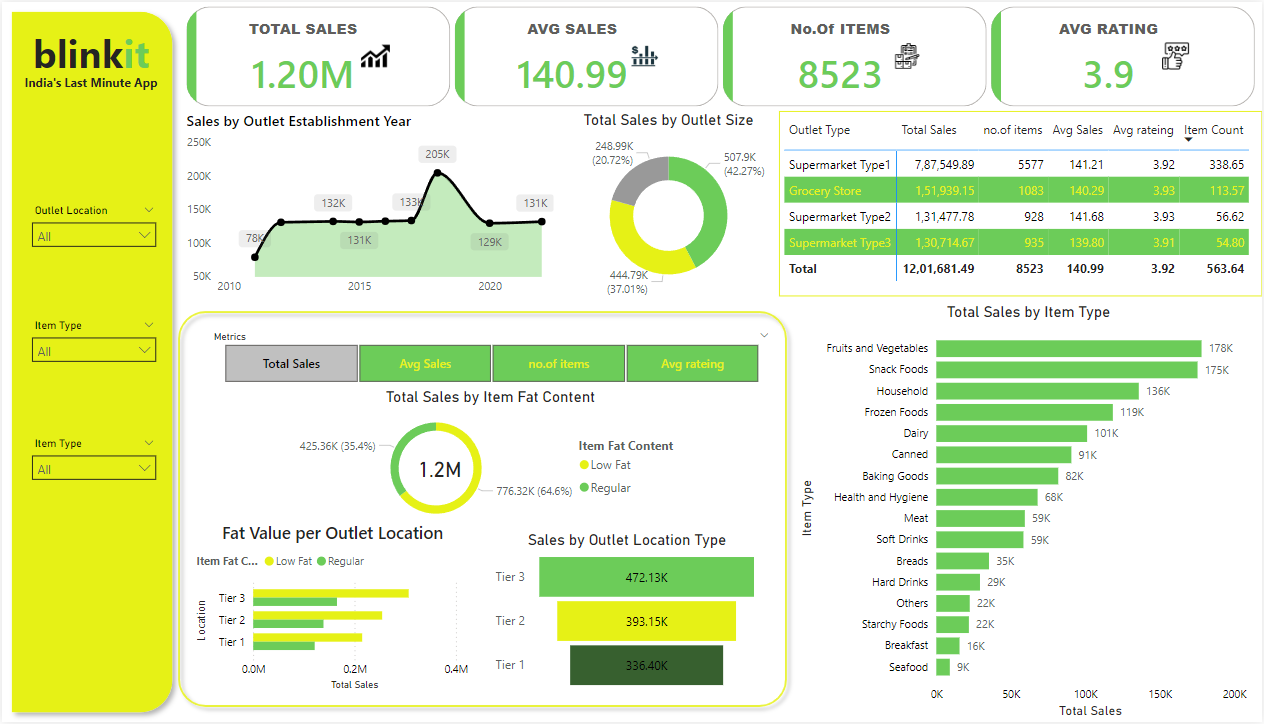

What the dashboard file says about the page in this screenshot:
{"tool":"powerbi","page":{"name":"Page 1","canvas":[1400,800],"ordinal":0},"visuals":[{"type":"shape","box":[0,0,200,800],"z":0},{"type":"textbox","box":[20,22.2,157.8,68.9],"z":1000},{"type":"textbox","box":[20,75.6,163.3,30],"z":2000},{"type":"cardVisual","fields":{"Data":["BlinkIT Grocery Data.Total Sales","BlinkIT Grocery Data.Avg Sales","BlinkIT Grocery Data.no.of items","BlinkIT Grocery Data.Avg rateing"]},"box":[200,0,1200,121.1],"z":3000},{"type":"shape","box":[186.7,334.4,694.4,457.8],"z":4000},{"type":"donutChart","fields":{"Y":["BlinkIT Grocery Data.Total Sales"],"Category":["BlinkIT Grocery Data.Item Fat Content"]},"box":[318.9,428.9,447.8,158.9],"z":5000},{"type":"barChart","fields":{"Y":["BlinkIT Grocery Data.Total Sales"],"Category":["BlinkIT Grocery Data.Item Type"]},"box":[881.1,334.4,518.9,465.6],"z":6000},{"type":"slicer","fields":{"Values":["Metrics.Metrics"]},"box":[222.2,360,642.2,68.9],"z":7000},{"type":"lineChart","title":"Sales by Outlet Establishment Year","fields":{"Y":["BlinkIT Grocery Data.Total Sales"],"Category":["BlinkIT Grocery Data.Outlet Establishment Year"]},"box":[200,121.1,417.8,213.3],"z":8000},{"type":"donutChart","fields":{"Category":["BlinkIT Grocery Data.Outlet Size"],"Y":["BlinkIT Grocery Data.Total Sales"]},"box":[617.8,121.1,245.6,213.3],"z":9000},{"type":"funnel","title":"Sales by Outlet Location Type","fields":{"Y":["BlinkIT Grocery Data.Total Sales"],"Category":["BlinkIT Grocery Data.Outlet Location Type"]},"box":[543.3,587.8,302.2,181.1],"z":10000},{"type":"pivotTable","fields":{"Rows":["BlinkIT Grocery Data.Outlet Type"],"Values":["BlinkIT Grocery Data.Total Sales","BlinkIT Grocery Data.no.of items","BlinkIT Grocery Data.Avg Sales","BlinkIT Grocery Data.Avg rateing","Sum(BlinkIT Grocery Data.Item Visibility)"]},"box":[863.3,121.1,536.7,205.6],"z":11000},{"type":"slicer","fields":{"Values":["BlinkIT Grocery Data.Outlet Location Type"]},"box":[23.3,220,157.8,60],"z":12000},{"type":"slicer","fields":{"Values":["BlinkIT Grocery Data.Item Type"]},"box":[23.3,347.8,157.8,60],"z":13000},{"type":"slicer","fields":{"Values":["BlinkIT Grocery Data.Outlet Size"]},"box":[23.3,478.9,157.8,60],"z":14000},{"type":"card","fields":{"Values":["BlinkIT Grocery Data.Total Sales"]},"box":[448.9,491.1,74.4,54.4],"z":15000},{"type":"clusteredBarChart","title":"Fat Value per Outlet Location","fields":{"Category":["BlinkIT Grocery Data.Outlet Location Type"],"Series":["BlinkIT Grocery Data.Item Fat Content"],"Y":["BlinkIT Grocery Data.Total Sales"]},"box":[211.1,576.7,312.2,192.2],"z":16000},{"type":"waterfallChart","title":"Outlet Location Type by Outlet Size","fields":{"Category":["BlinkIT Grocery Data.Outlet Size"],"Y":["CountNonNull(BlinkIT Grocery Data.Outlet Location Type)"]},"box":[1209,531,191,208],"z":16001}]}

Visuals, with their boxes in screenshot pixels (x1, y1, x2, y2), scaled from the page's 1400x800 canvas onto the 1264x724 screenshot:
shape: detection(0, 0, 181, 723)
textbox: detection(18, 20, 161, 82)
textbox: detection(18, 68, 165, 96)
cardVisual - BlinkIT Grocery Data.Total Sales x BlinkIT Grocery Data.Avg Sales: detection(181, 0, 1263, 110)
shape: detection(169, 303, 796, 717)
donutChart - BlinkIT Grocery Data.Total Sales x BlinkIT Grocery Data.Item Fat Content: detection(288, 388, 692, 532)
barChart - BlinkIT Grocery Data.Total Sales x BlinkIT Grocery Data.Item Type: detection(796, 303, 1263, 723)
slicer - Metrics.Metrics: detection(201, 326, 780, 388)
"Sales by Outlet Establishment Year" lineChart: detection(181, 110, 558, 303)
donutChart - BlinkIT Grocery Data.Outlet Size x BlinkIT Grocery Data.Total Sales: detection(558, 110, 780, 303)
"Sales by Outlet Location Type" funnel: detection(491, 532, 763, 696)
pivotTable - BlinkIT Grocery Data.Outlet Type x BlinkIT Grocery Data.Total Sales: detection(779, 110, 1263, 296)
slicer - BlinkIT Grocery Data.Outlet Location Type: detection(21, 199, 164, 253)
slicer - BlinkIT Grocery Data.Item Type: detection(21, 315, 164, 369)
slicer - BlinkIT Grocery Data.Outlet Size: detection(21, 433, 164, 488)
card - BlinkIT Grocery Data.Total Sales: detection(405, 444, 472, 494)
"Fat Value per Outlet Location" clusteredBarChart: detection(191, 522, 472, 696)
"Outlet Location Type by Outlet Size" waterfallChart: detection(1092, 481, 1263, 669)
